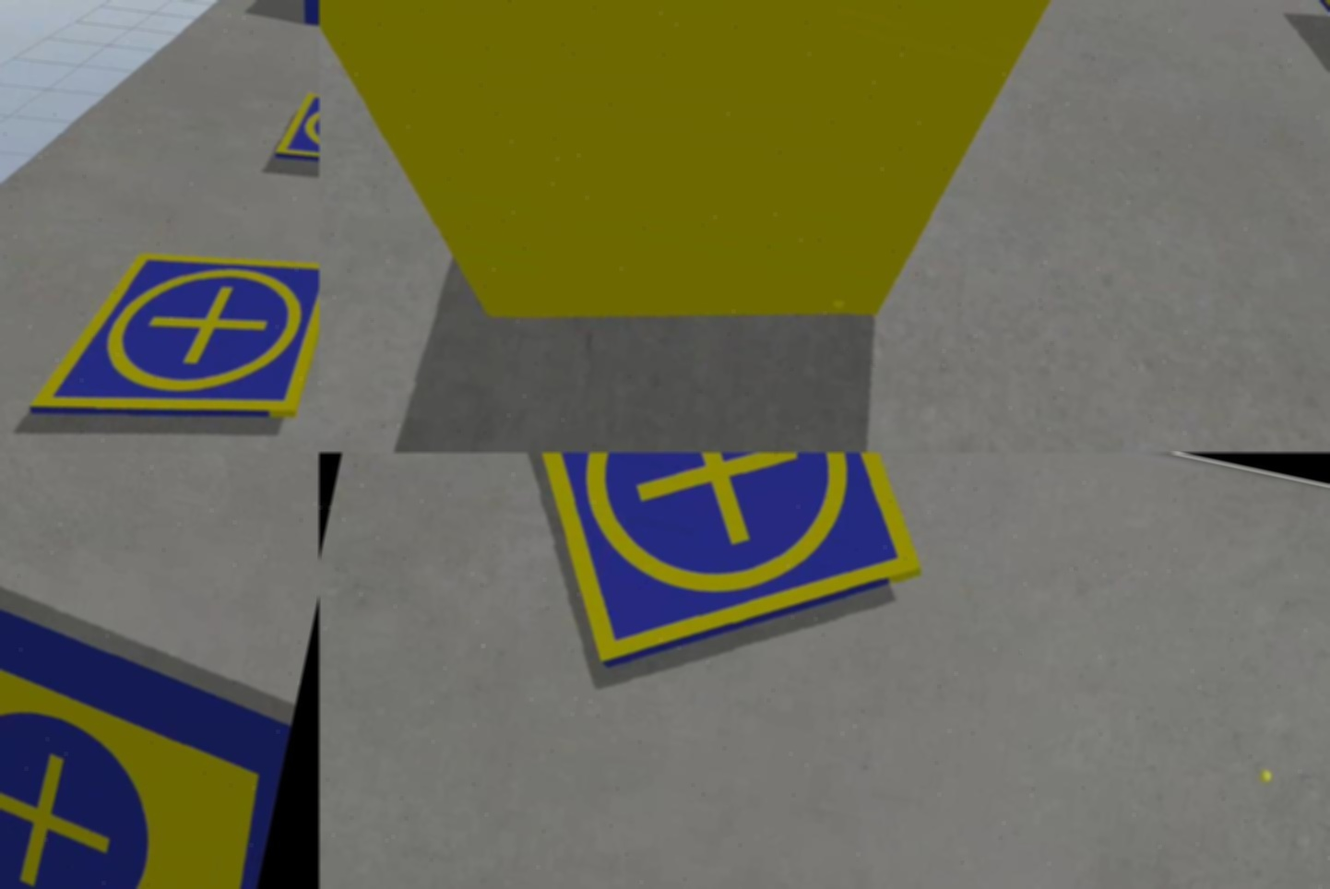large_base: (1, 531, 311, 889)
small_base: (473, 454, 961, 730), (32, 209, 319, 454), (1267, 1, 1330, 166), (276, 77, 319, 187)
